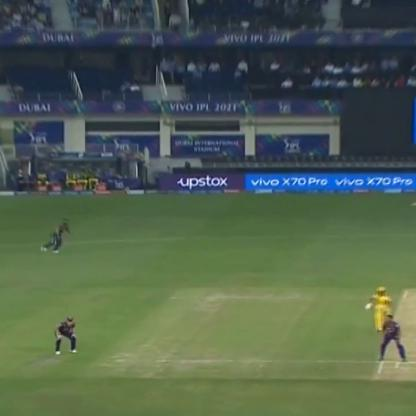pitch: (375, 286, 415, 379)
